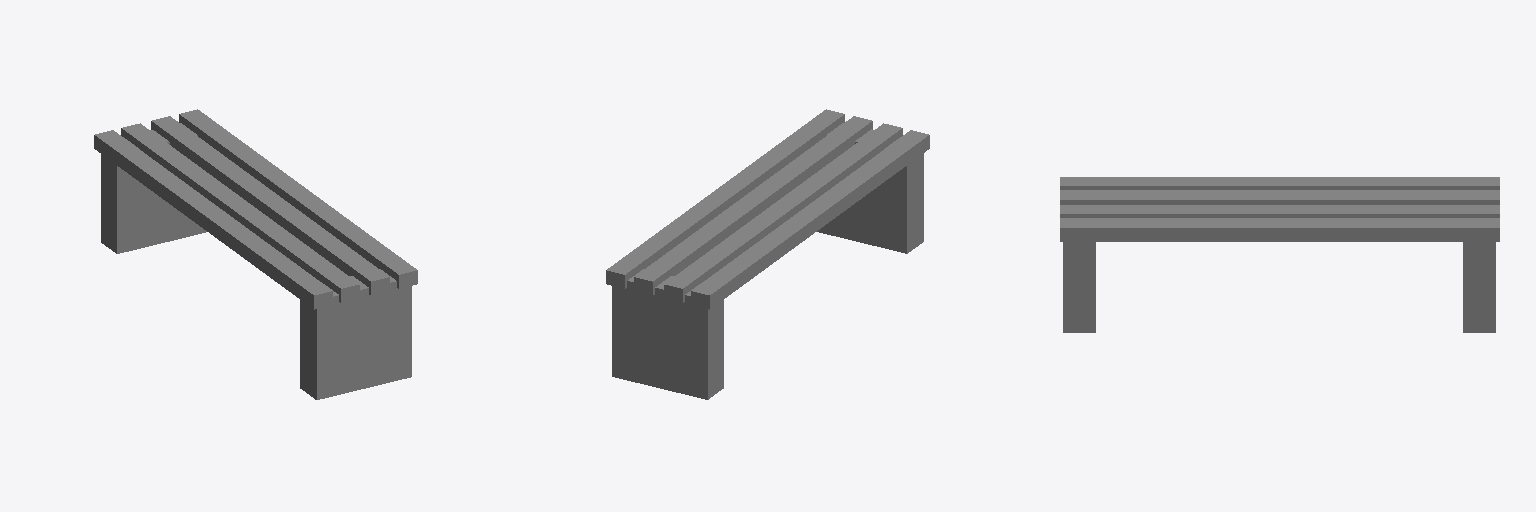
File: Obstacle_042.obj
The picture shows the model from 3 angles: view 1: azimuth 30°, elevation 25°; view 2: azimuth 150°, elevation 25°; view 3: azimuth 270°, elevation 25°; orthographic projection.
Parts seen in each view (by area): view 1: Box068, Box069, Box067; view 2: Box068, Box067, Box069; view 3: Box068, Box067, Box069.
Part boxes in pixels (x1,y1,x2,y2): Box068: (94, 109, 417, 309); Box069: (300, 269, 411, 399); Box067: (101, 123, 206, 253); Box068: (606, 109, 929, 309); Box067: (612, 269, 723, 399); Box069: (817, 123, 923, 253); Box068: (1060, 177, 1499, 241); Box067: (1463, 242, 1495, 332); Box069: (1063, 242, 1095, 332).
Size of the model in its own units: 21.48 by 21.16 by 78.74.